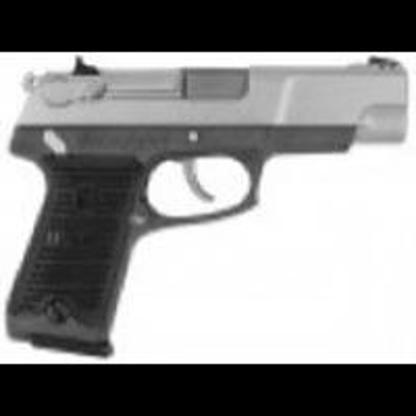weapon: (2, 54, 414, 357)
